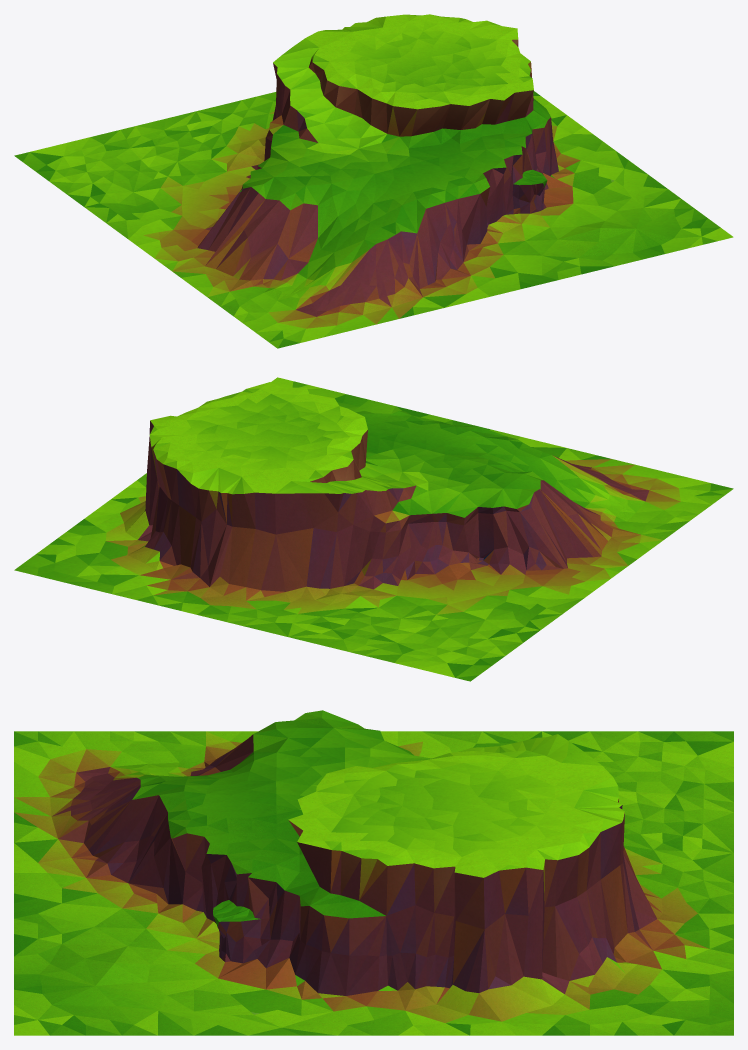
File: Terrain-part-02.fbx
3 views of the same model, one above another, from view 1: azimuth 30°, elevation 25°; view 2: azimuth 150°, elevation 25°; view 3: azimuth 270°, elevation 25° (orthographic). The views are drawn at different scales.
Parts seen in each view (by area): view 1: Terrain-part-02; view 2: Terrain-part-02; view 3: Terrain-part-02.
Part boxes in pixels (x1,y1,x2,y2): Terrain-part-02: (14, 14, 733, 348); Terrain-part-02: (14, 377, 733, 681); Terrain-part-02: (14, 710, 733, 1035).
Size of the model in its own units: 18 by 3.59 by 18.
